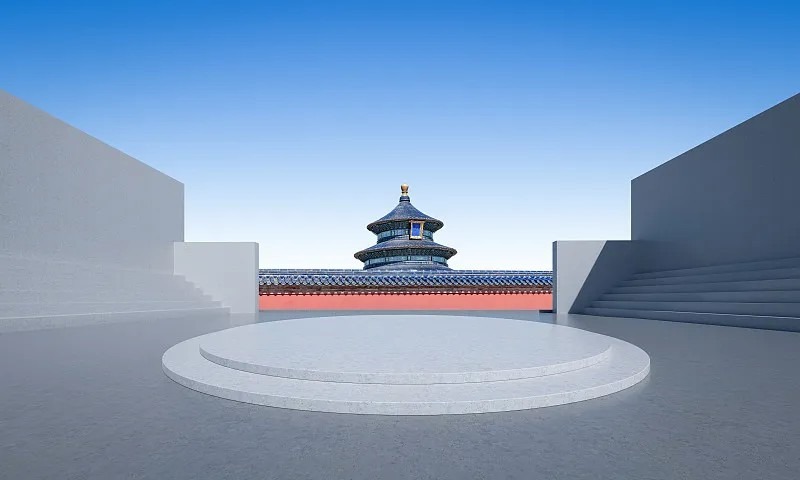Heaven: (355, 182, 456, 272)
